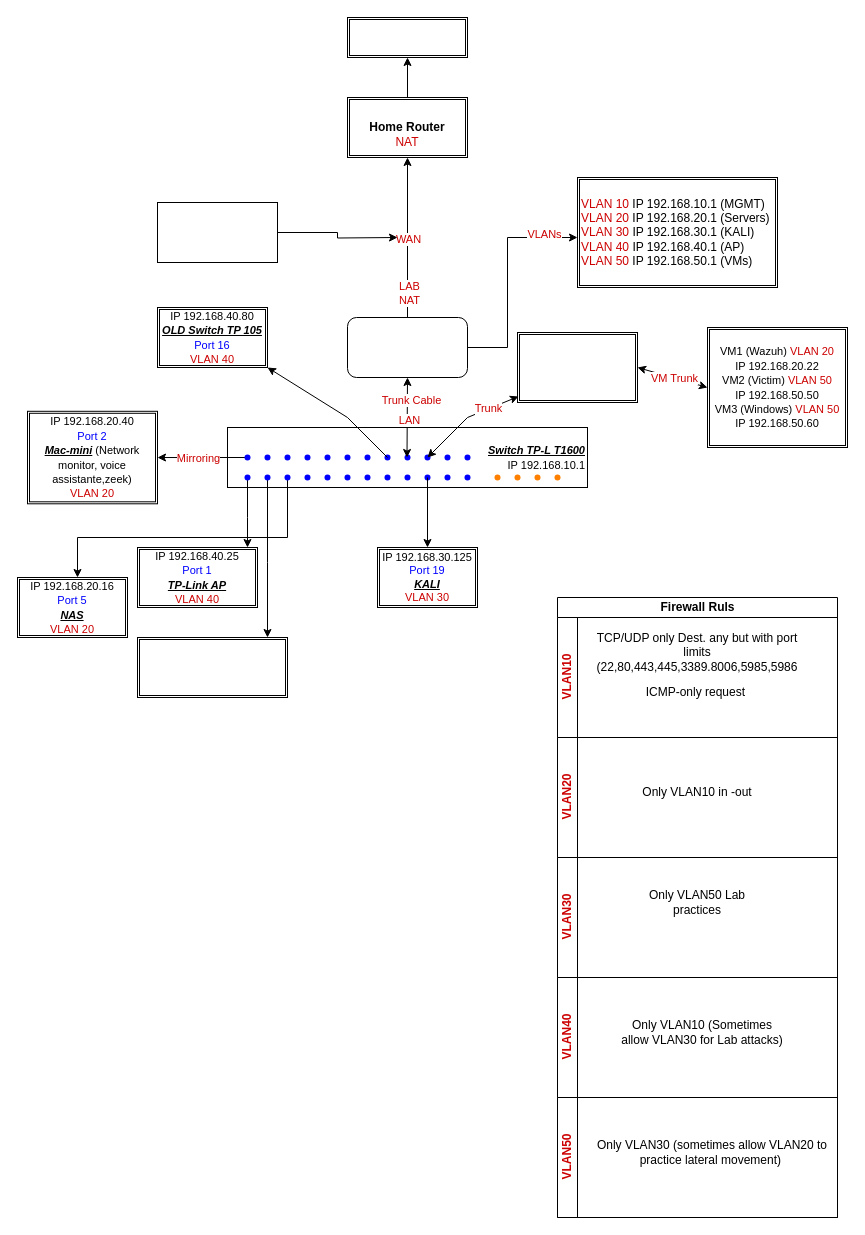
Some shapes in this 865 by 1235 pixel diagram are drawn without their labels. The shapes that lost their labels are listed below. From the top down, each one's centre as x and y in pixels, then its label:
At (x=407, y=37): "Internet".
At (x=217, y=232): "In case i need an internet".
At (x=407, y=347): "IP 192.168.100.1 IP 192.168.10.1 OPNsense(PC Ryzen) Port 18".
At (x=577, y=367): "IP 192.168.20.50 Port 20 Proxmox Server VLAN 20".
At (x=212, y=667): "IP 192.168.10.50 Port 4 HOST VLAN 10".
